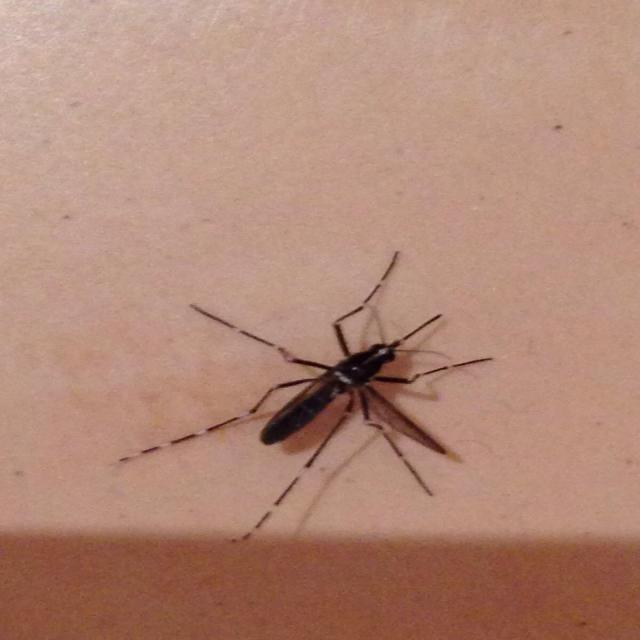albopictus: (124, 242, 514, 538)
